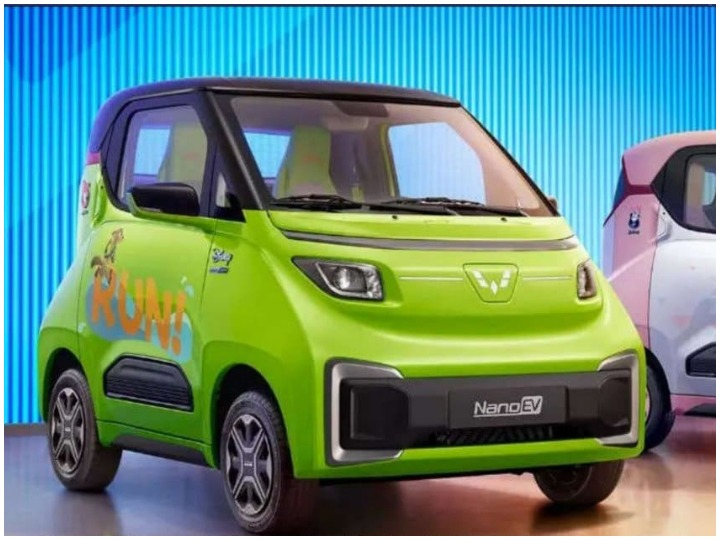Nano: (37, 77, 647, 534)
